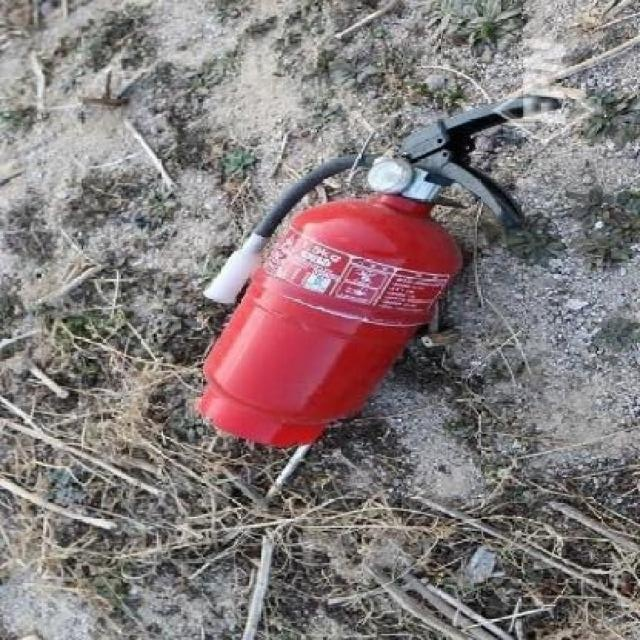fire extinguisher: (196, 95, 561, 448)
